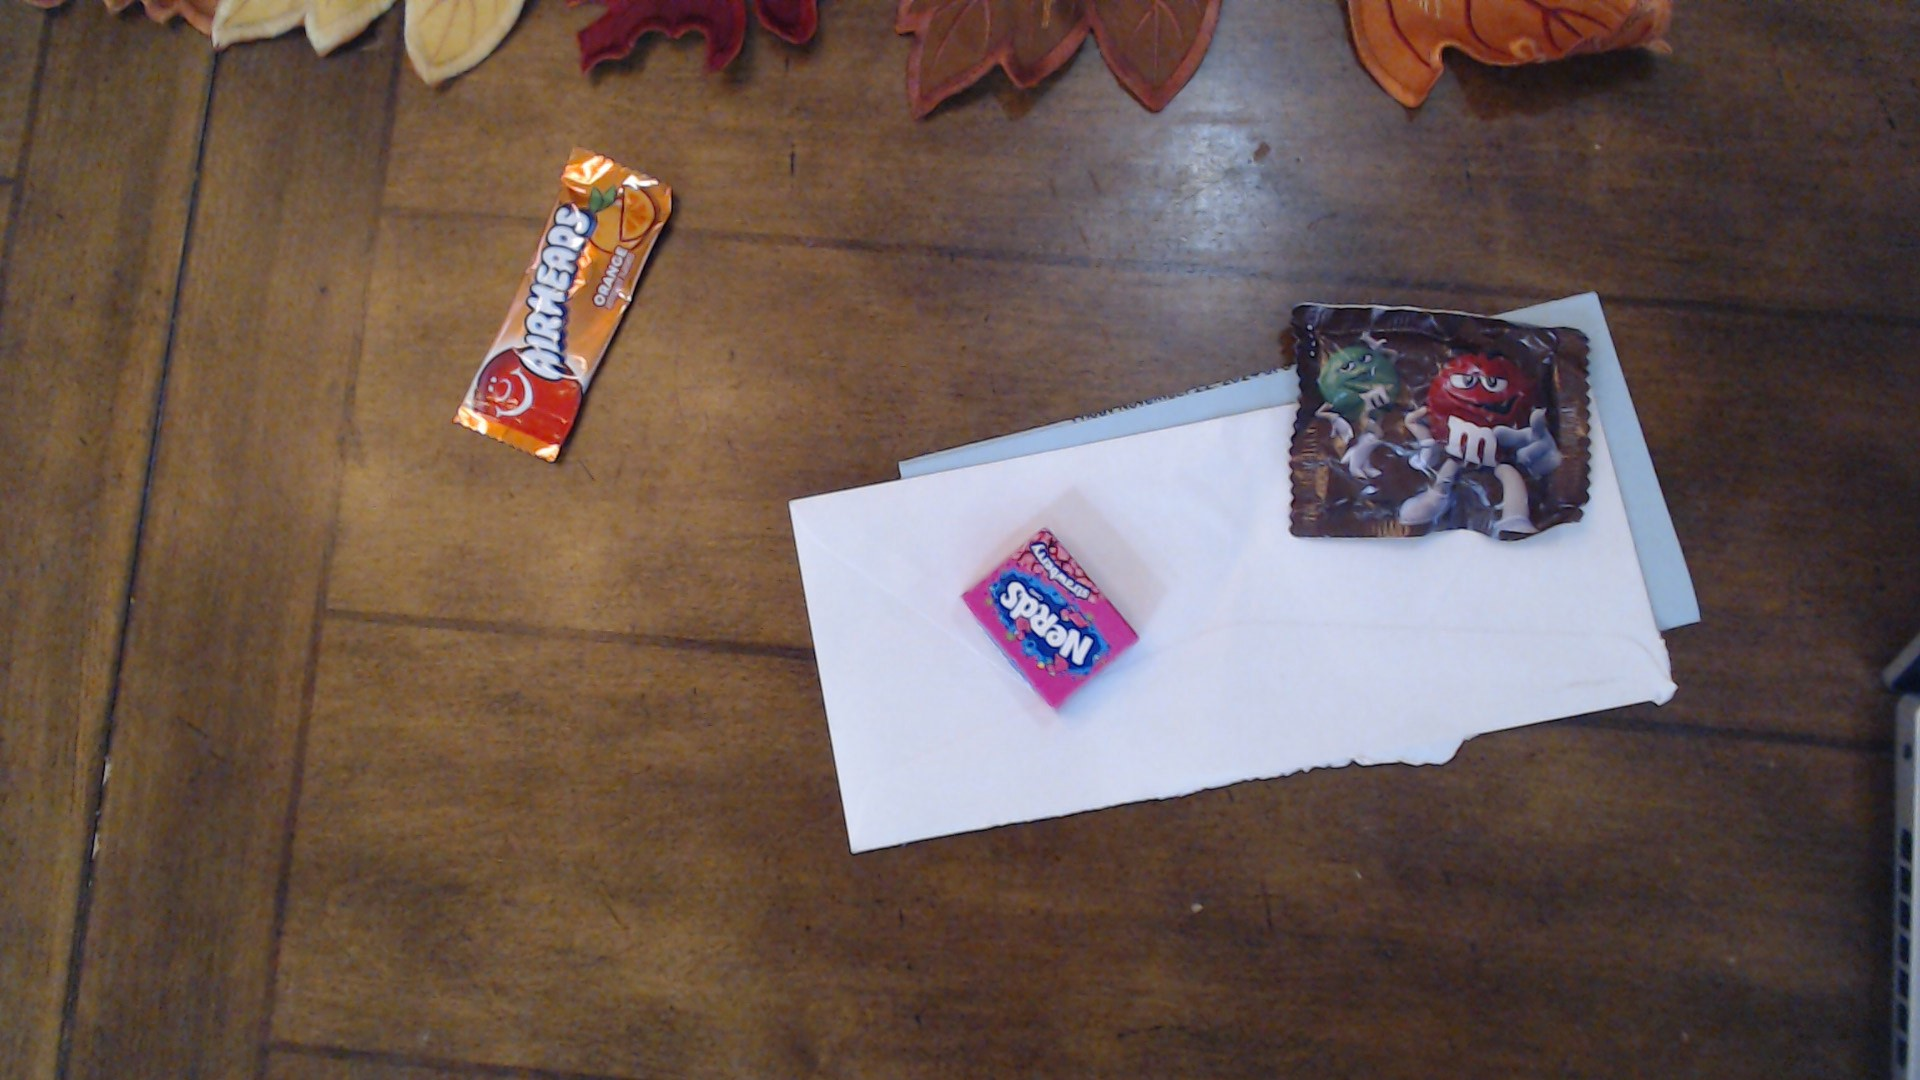MMs_peanut: (1276, 301, 1609, 546)
airheads: (448, 127, 724, 492)
nerds: (935, 509, 1142, 719)
